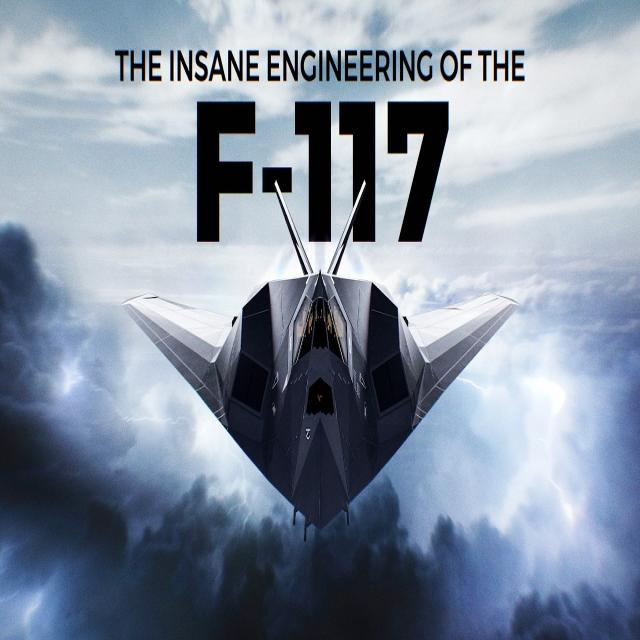F117: (95, 160, 547, 554)
